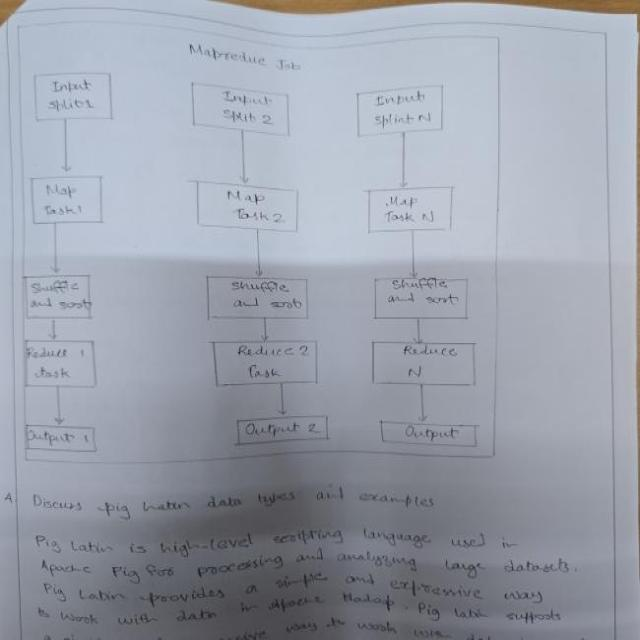Figure Detection - v3 Dataset Version2: (7, 18, 512, 470)
